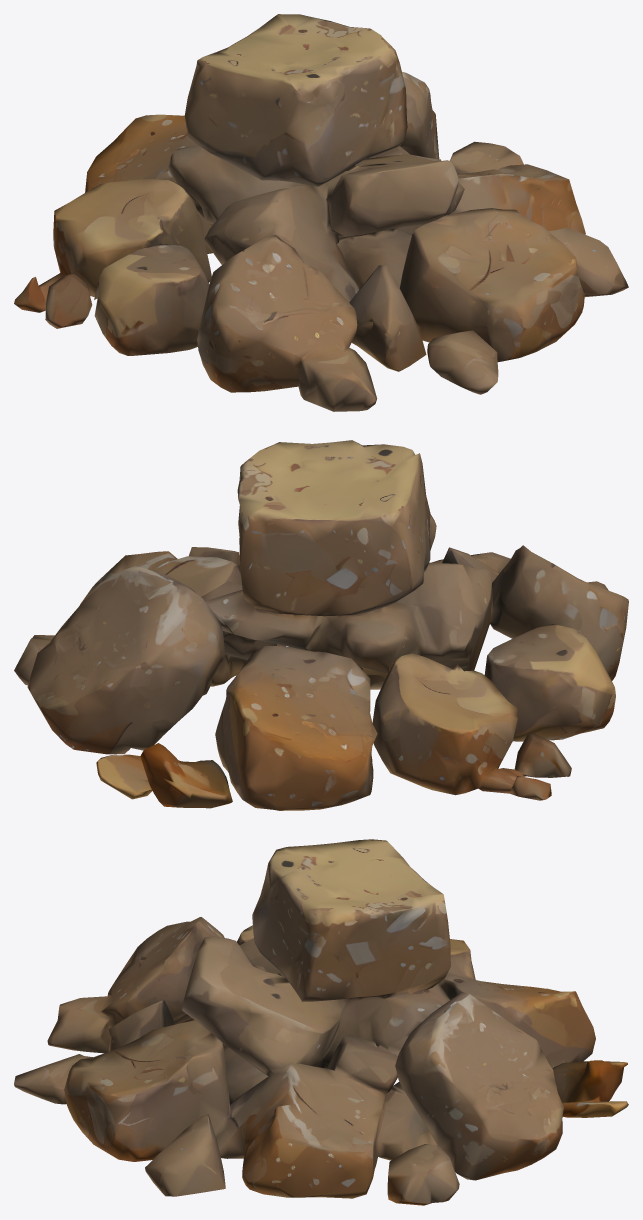
The model's file is rubble-model.glb.
The picture shows the model from 3 angles, top to bottom: view 1: azimuth 30°, elevation 25°; view 2: azimuth 150°, elevation 25°; view 3: azimuth 270°, elevation 25°; orthographic projection. The views are drawn at different scales.
Parts seen in each view (by area): view 1: tripo_node_51c7d581-6c2c-4c17-8ca6-1c07985ede45; view 2: tripo_node_51c7d581-6c2c-4c17-8ca6-1c07985ede45; view 3: tripo_node_51c7d581-6c2c-4c17-8ca6-1c07985ede45.
Boxes of the visible parts, <box> form: tripo_node_51c7d581-6c2c-4c17-8ca6-1c07985ede45: <box>14,14,628,411</box>; tripo_node_51c7d581-6c2c-4c17-8ca6-1c07985ede45: <box>14,440,628,810</box>; tripo_node_51c7d581-6c2c-4c17-8ca6-1c07985ede45: <box>14,839,628,1205</box>.
Size of the model in its own units: 0.9025 by 0.4017 by 0.9981.
Materials: 1 (1 with a texture image).
